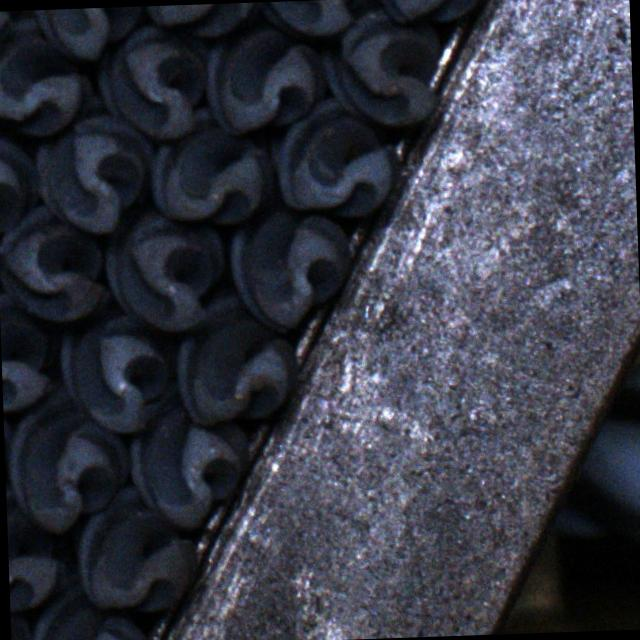tool_b: (5, 378, 131, 530), (31, 95, 156, 236), (172, 286, 296, 426), (73, 484, 199, 616), (317, 0, 440, 129), (128, 399, 252, 525), (148, 104, 275, 227), (102, 210, 226, 334), (228, 210, 352, 333), (271, 95, 394, 217), (59, 305, 172, 433), (98, 24, 213, 141), (204, 26, 326, 136), (0, 200, 110, 321), (0, 10, 90, 137), (6, 486, 67, 610), (26, 584, 148, 640), (0, 290, 52, 413), (33, 6, 148, 58), (0, 126, 39, 242), (140, 2, 261, 38), (254, 0, 377, 35), (363, 0, 492, 24), (9, 579, 31, 640)
